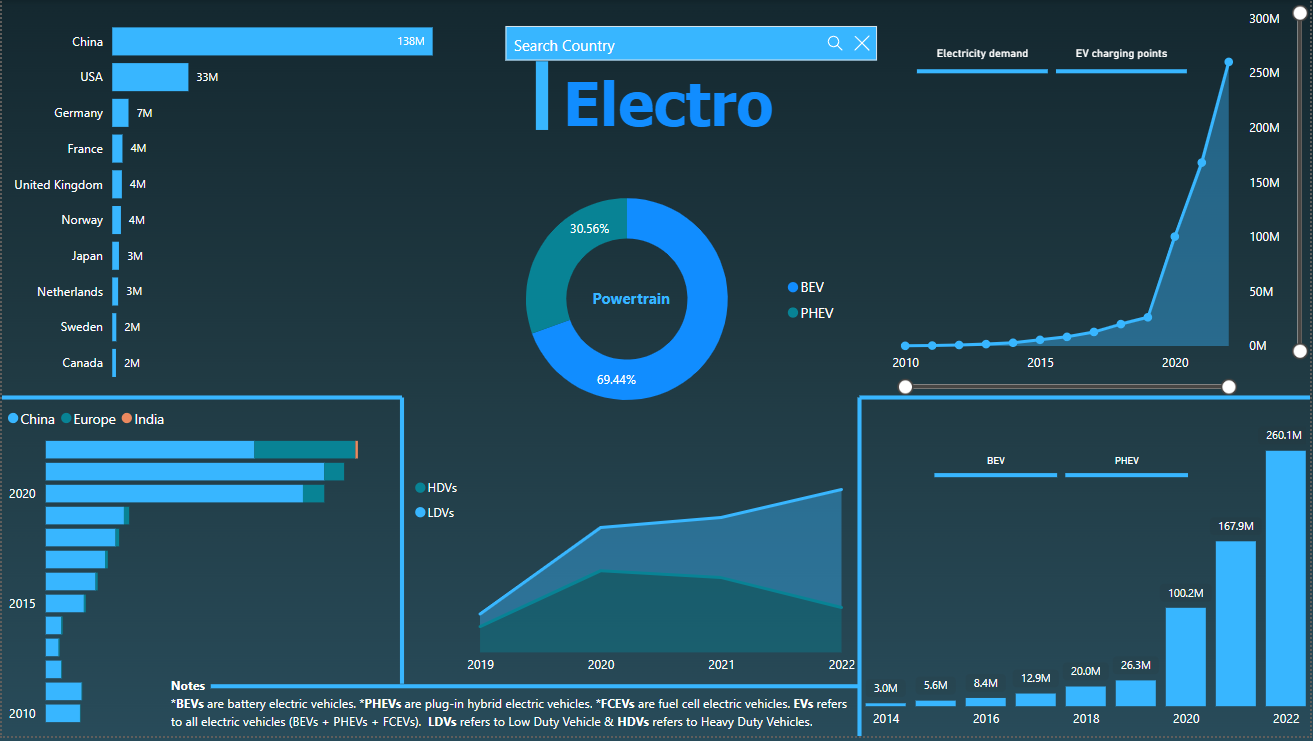

What the dashboard file says about the page in this screenshot:
{"tool":"powerbi","page":{"name":"Global","canvas":[1280,720],"ordinal":0},"visuals":[{"type":"shape","box":[811.7,388.7,53.8,331.3],"z":0},{"type":"shape","box":[0,372.8,391.2,31.8],"z":1000},{"type":"shape","box":[500,59.9,56.2,67.2],"z":2000},{"type":"shape","box":[364.3,388.7,53.8,279.9],"z":3000},{"type":"barChart","fields":{"Category":["Global EV 2023.region"],"Y":["Sum(GlobalEV2023.value)"]},"box":[0,0,482.9,388.7],"z":4000},{"type":"textbox","box":[160.1,655.2,678.4,64.8],"z":5000},{"type":"donutChart","title":"Total Values Of:","fields":{"Category":["Global EV 2023.powertrain"],"Y":["Sum(Global EV 2023.value)"]},"box":[450,136,377.9,314],"z":6000},{"type":"columnChart","fields":{"Category":["Global EV 2023.year"],"Y":["Sum(Global EV 2023.value)"]},"box":[839.8,388.3,440.5,332.1],"z":7000},{"type":"areaChart","title":"Global EV Sales","fields":{"Category":["Global EV 2023.year"],"Y":["Sum(Global EV 2023.value)"]},"box":[865.5,0,414.4,388.7],"z":8000},{"type":"advancedSlicerVisual","fields":{"Values":["Global EV 2023.parameter"]},"box":[877.7,25.7,275,50.1],"z":9000},{"type":"advancedSlicerVisual","fields":{"Values":["Global EV 2023.powertrain"]},"box":[907,427.9,258.1,44.2],"z":10000},{"type":"textSearchSlicerF85E2E78BE4A4D7D9F99ED75B5D71C85","fields":{"fields":["GlobalEV2023.region"]},"box":[483,16.5,382.8,60.4],"z":11000},{"type":"textbox","box":[539.1,59.9,224.9,80.7],"z":12000},{"type":"textbox","box":[555.8,276.7,118.6,33.7],"z":13000},{"type":"stackedAreaChart","fields":{"Category":["GlobalEV2023.year"],"Y":["GlobalEV2023.HDVs","GlobalEV2023.LDVs"]},"box":[397.9,459.7,440.5,208.6],"z":14000},{"type":"barChart","fields":{"Category":["GlobalEV2023.year"],"Y":["Sum(GlobalEV2023.value)"],"Series":["GlobalEV2023.region"]},"box":[0,388.4,390.7,331.4],"z":15000},{"type":"shape","box":[838.6,372.8,441.3,31.8],"z":16000},{"type":"shape","box":[204.1,655.2,634.4,31.8],"z":17000}]}

Visuals, with their boxes in screenshot pixels (x1, y1, x2, y2), scaled from the page's 1280x720 canvas onto the 1313x741 screenshot:
shape: 833:400:888:740
shape: 0:384:401:416
shape: 513:62:571:131
shape: 374:400:429:688
barChart - Global EV 2023.region x Sum(GlobalEV2023.value): 0:0:495:400
textbox: 164:674:860:740
"Total Values Of:" donutChart: 462:140:849:463
columnChart - Global EV 2023.year x Sum(Global EV 2023.value): 861:400:1312:740
"Global EV Sales" areaChart: 888:0:1312:400
advancedSlicerVisual - Global EV 2023.parameter: 900:26:1182:78
advancedSlicerVisual - Global EV 2023.powertrain: 930:440:1195:486
textSearchSlicerF85E2E78BE4A4D7D9F99ED75B5D71C85 - GlobalEV2023.region: 495:17:888:79
textbox: 553:62:784:145
textbox: 570:285:692:319
stackedAreaChart - GlobalEV2023.year x GlobalEV2023.HDVs: 408:473:860:688
barChart - GlobalEV2023.year x Sum(GlobalEV2023.value): 0:400:401:740
shape: 860:384:1312:416
shape: 209:674:860:707
